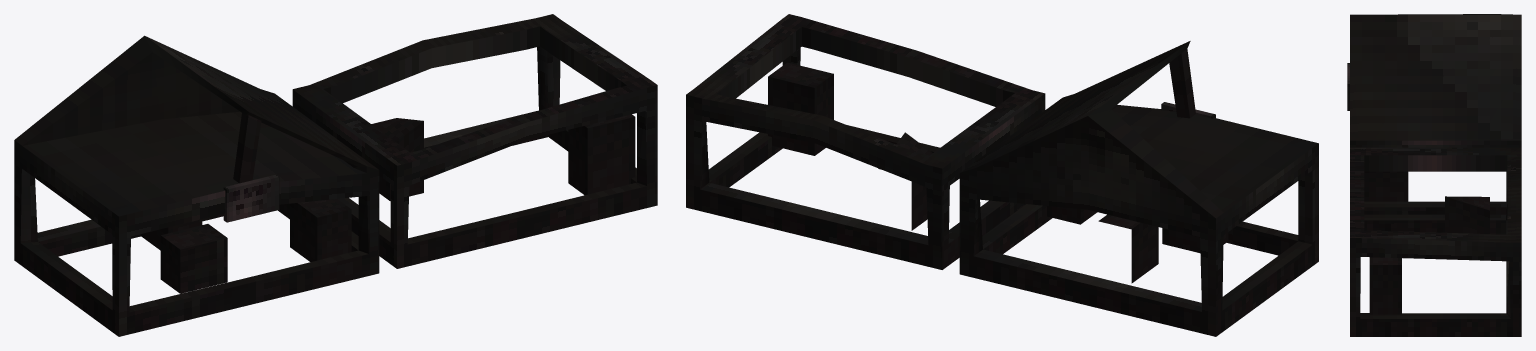
File: env_bld_commercial_poor.glb
The picture shows the model from 3 angles, left to right: view 1: azimuth 30°, elevation 25°; view 2: azimuth 150°, elevation 25°; view 3: azimuth 270°, elevation 25°; orthographic projection. The views are drawn at different scales.
Visible parts, largest first — view 1: env_bld_commercial_poor; view 2: env_bld_commercial_poor; view 3: env_bld_commercial_poor.
Boxes of the visible parts, x1,y1,x2,y2 form: env_bld_commercial_poor: (14,14,657,336); env_bld_commercial_poor: (686,14,1318,336); env_bld_commercial_poor: (1347,14,1521,336).
Bounding box in the file's own units: 0.052 × 0.0178 × 0.0178.
Materials: 1 (1 with a texture image).
